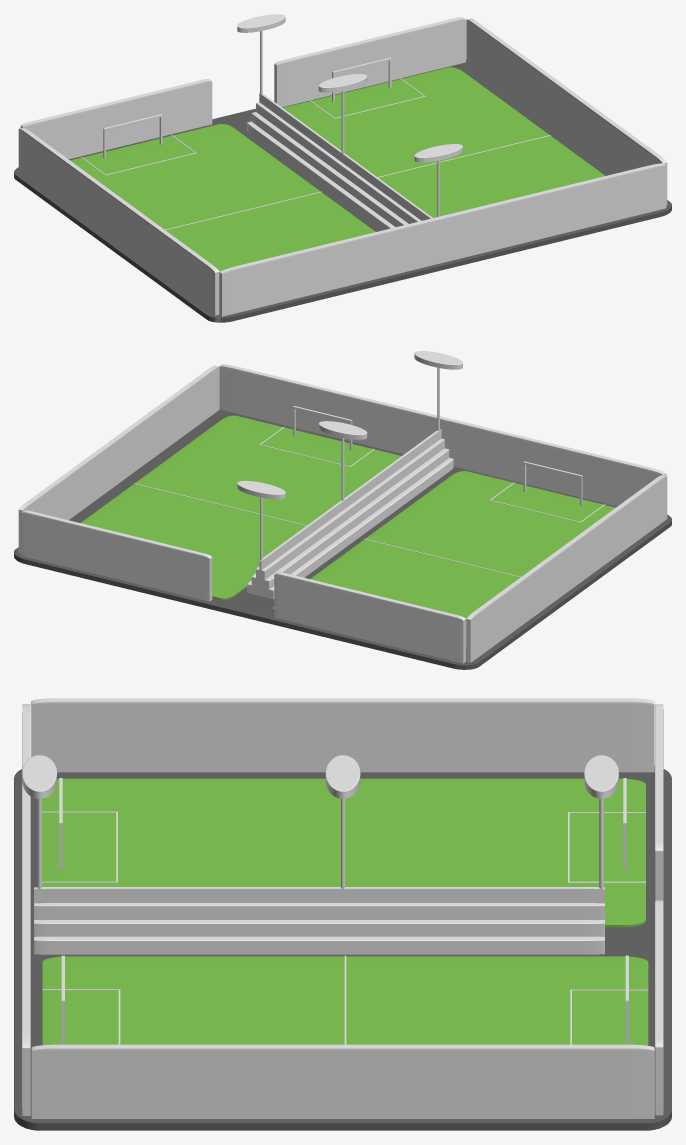
File: soccer_field.glb
3 renders of one model, top to bottom at view 1: azimuth 30°, elevation 25°; view 2: azimuth 150°, elevation 25°; view 3: azimuth 270°, elevation 25°, orthographic. The views are drawn at different scales.
Parts seen in each view (by area): view 1: grass (×2), back_fence, right_fence, land, left_fence, front_fence2, front_fence1, Box 2, Box 1, Box, Box 3, Cylinder 1 (×3); view 2: grass (×2), back_fence, land, right_fence, front_fence2, front_fence1, left_fence, Box 1, Box, Box 2, Box 3, Cylinder 1 (×3); view 3: grass (×2), left_fence, right_fence, land, Box, Box 1, Box 2, Box 3, Cylinder 1 (×3), back_fence, front_fence2, front_fence1.
Boxes of the visible parts, x1,y1,x2,y2 form: grass (×2): (70, 67, 604, 271); back_fence: (219, 163, 666, 316); right_fence: (18, 127, 219, 315); land: (14, 59, 671, 322); left_fence: (466, 18, 667, 205); front_fence2: (274, 17, 465, 107); front_fence1: (20, 79, 212, 159); Box 2: (256, 102, 421, 223); Box 1: (251, 112, 408, 226); Box: (247, 121, 395, 230); Box 3: (259, 93, 432, 220); Cylinder 1 (×3): (237, 14, 462, 162); grass (×2): (81, 415, 615, 650); back_fence: (219, 364, 666, 506); land: (14, 409, 671, 669); right_fence: (466, 475, 667, 662); front_fence2: (20, 510, 212, 601); front_fence1: (274, 572, 465, 663); left_fence: (18, 365, 219, 552); Box 1: (251, 448, 449, 590); Box: (247, 458, 453, 599); Box 2: (256, 438, 444, 579); Box 3: (259, 429, 441, 570); Cylinder 1 (×3): (237, 351, 462, 499); grass (×2): (41, 778, 648, 1045); left_fence: (31, 1044, 654, 1118); right_fence: (31, 698, 654, 772); land: (14, 766, 671, 1130); Box: (33, 936, 604, 954); Box 1: (33, 920, 604, 936); Box 2: (33, 903, 604, 919); Box 3: (33, 887, 604, 903); Cylinder 1 (×3): (22, 755, 618, 798); back_fence: (22, 704, 30, 1115); front_fence2: (655, 900, 663, 1115); front_fence1: (655, 704, 663, 904).
Bounding box in the file's own units: 4.9 × 1.14 × 3.8.
